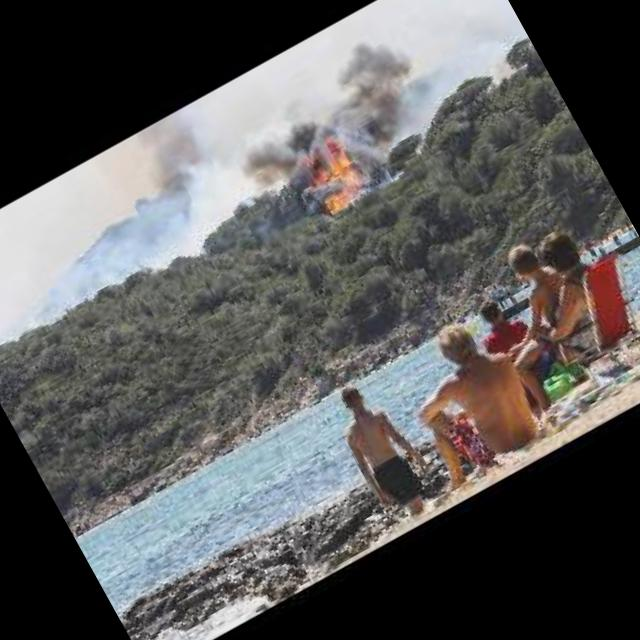fire: (289, 132, 373, 218)
smoke: (308, 27, 442, 170), (230, 100, 344, 212)
